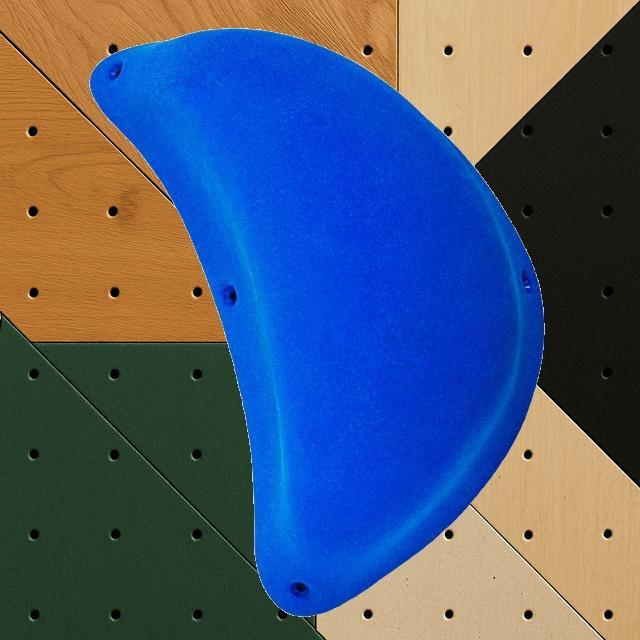Sloper: (88, 26, 546, 616)
